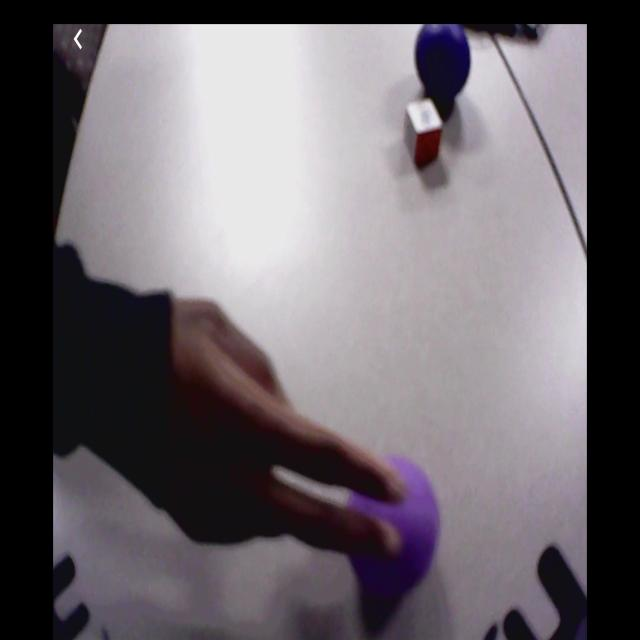ball: (348, 458, 440, 588), (416, 27, 473, 103)
